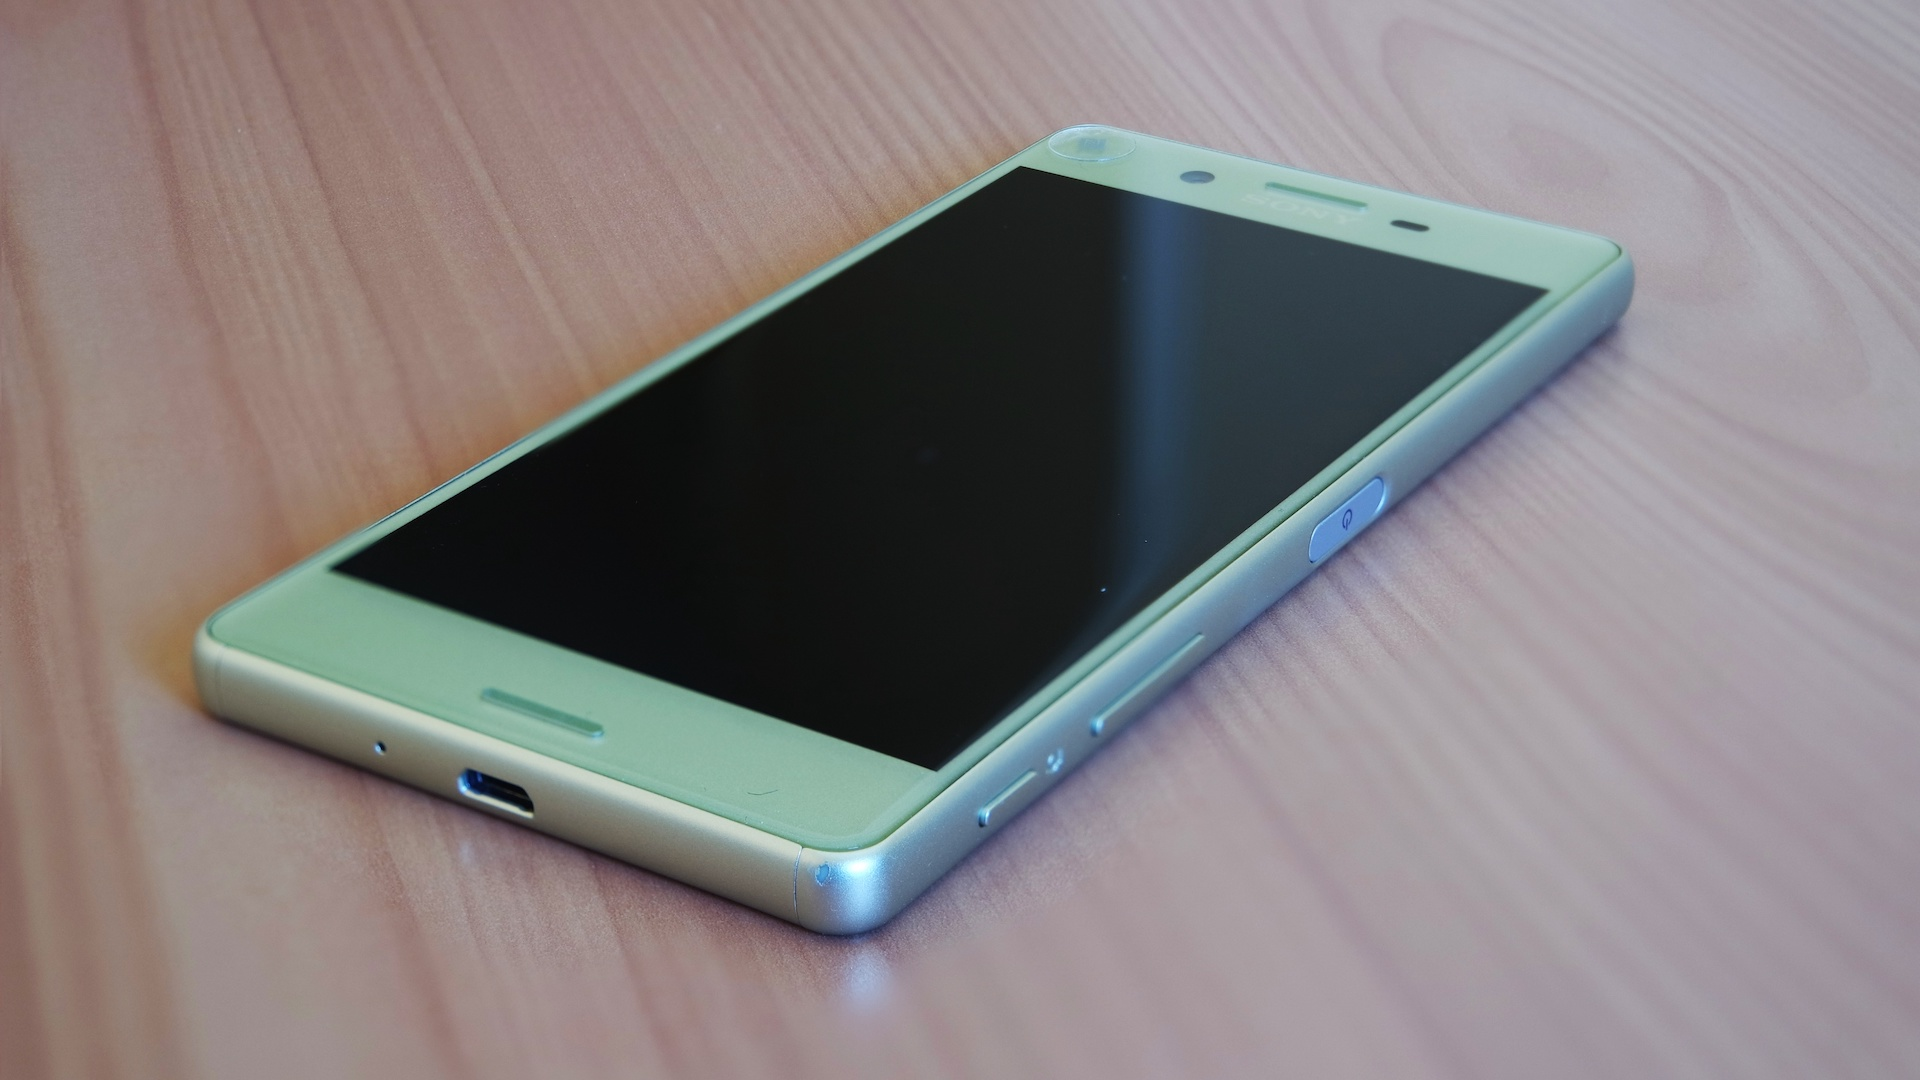smartphone: (190, 123, 1636, 943)
